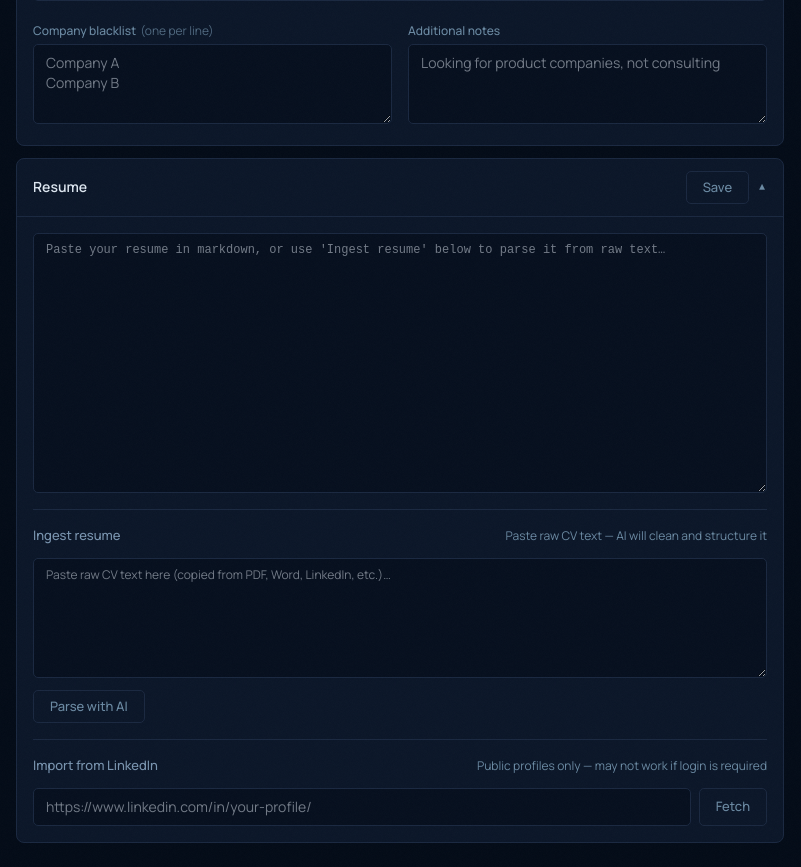
it: PreferencesView › shows parsed result after ingest and Use this button
This screenshot has width=801, height=867.
(page scrolled)
Replace the text in the text box with placeholder "Paste raw CV text" with "John Doe, Software Engineer with 10 years of experience in React and TypeScript. Worked at Google, Meta, Stripe." at [400, 618], box 33,558 -> 767,678
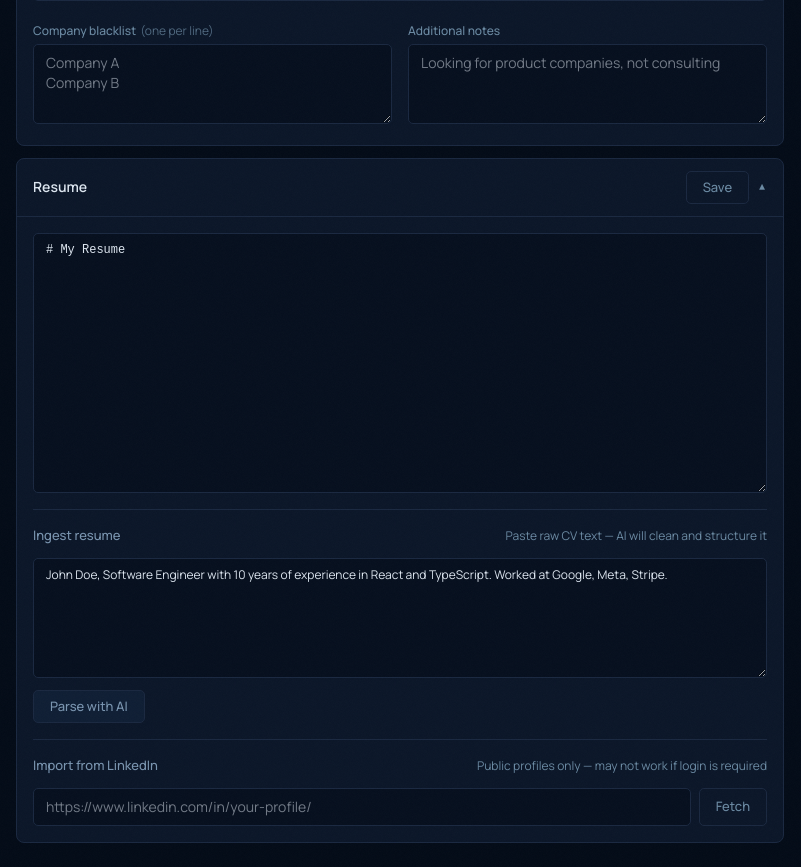
Click the button "Parse with AI".
click(89, 706)  # box 33,690 -> 145,723
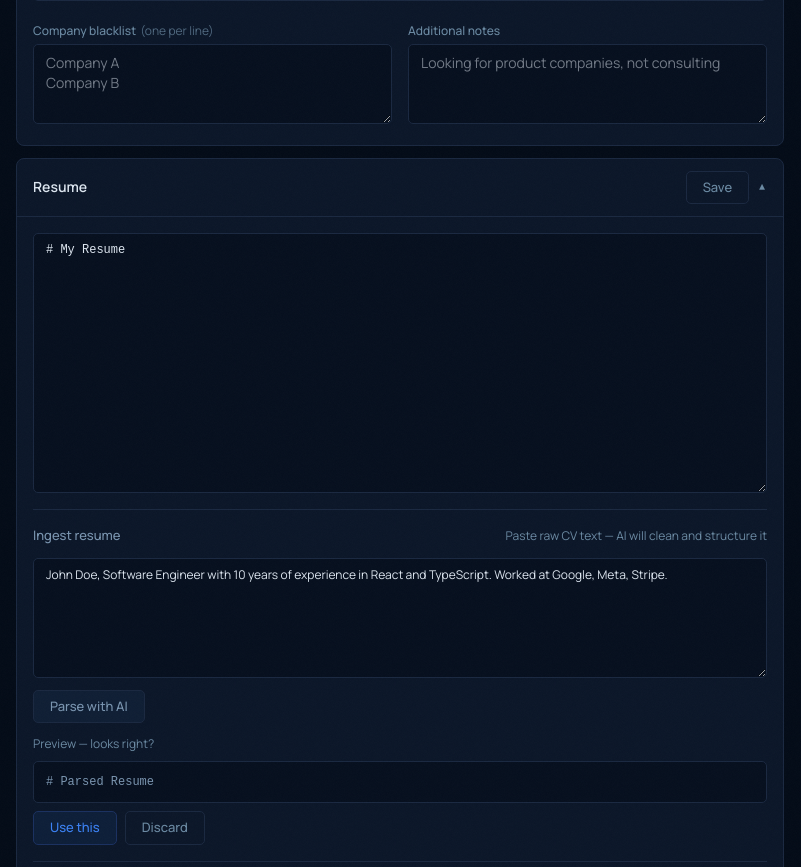
Now the button "Use this" is shown, box 33,811 -> 117,844
Now the text "# Parsed Resume" is shown, box 33,761 -> 767,803
